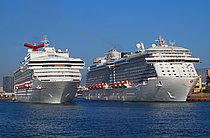Ship: (83, 30, 204, 106), (11, 33, 86, 107)
